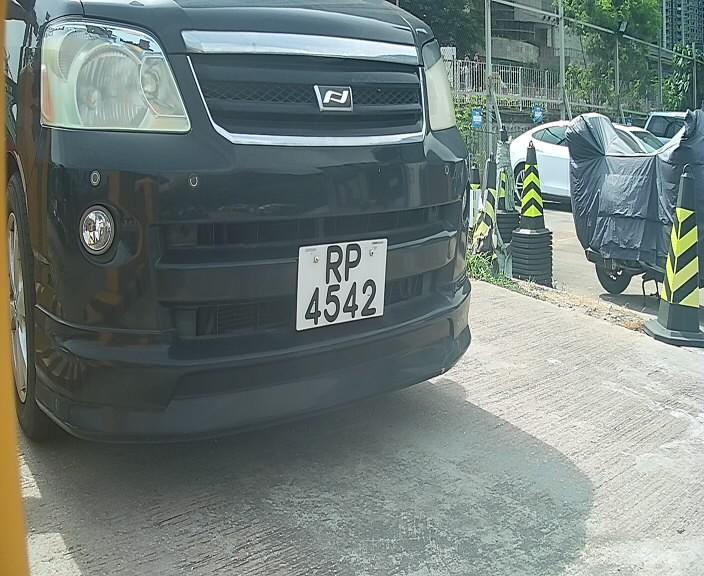License Plate: (290, 227, 393, 343)
